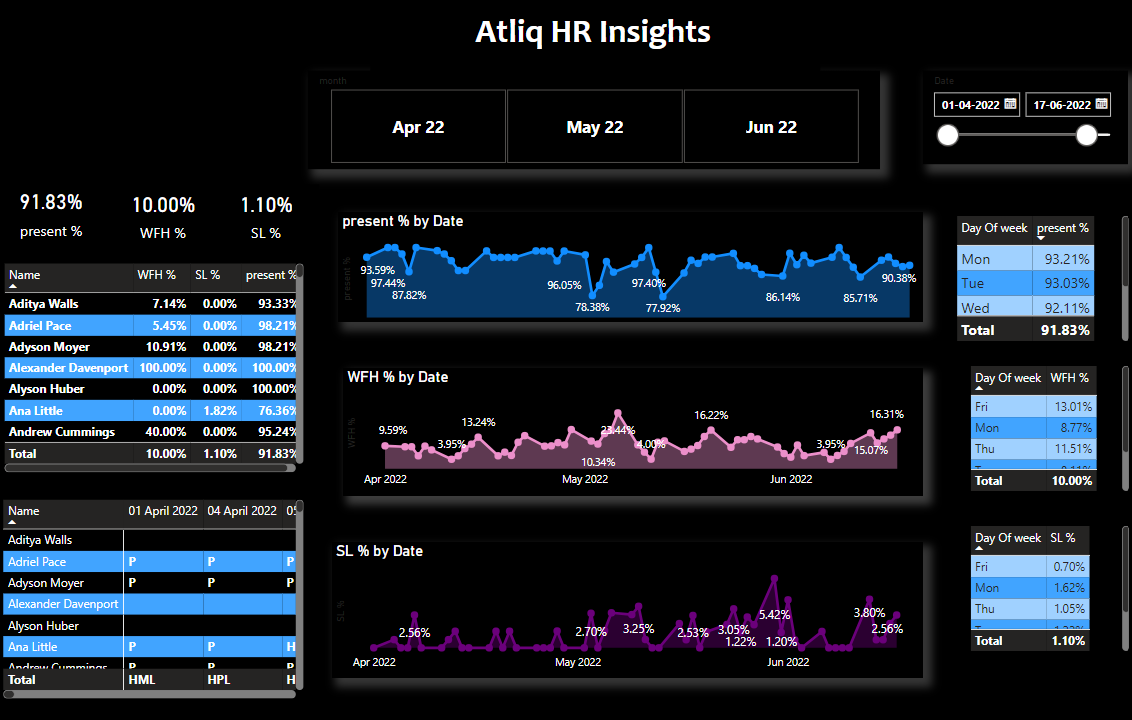

This screenshot's page, from the dashboard's own definition file:
{"tool":"powerbi","page":{"name":"Page 1","canvas":[1280,814],"ordinal":0},"visuals":[{"type":"card","fields":{"Values":["Measure.present %"]},"box":[9.7,204.5,98.1,71.9],"z":0},{"type":"slicer","fields":{"Values":["Final data.month"]},"box":[334.4,92.6,644,111.9],"z":1000},{"type":"card","fields":{"Values":["Measure.WFH %"]},"box":[129.9,210.1,110.6,66.3],"z":2000},{"type":"card","fields":{"Values":["Measure.SL %"]},"box":[240.5,210.1,120.2,66.3],"z":3000},{"type":"tableEx","fields":{"Values":["Final data.Name","Measure.WFH %","Measure.SL %","Measure.present %"]},"box":[0,294.4,348.3,244.6],"z":4000},{"type":"pivotTable","fields":{"Rows":["Final data.Name"],"Values":["Final data.Value"],"Columns":["Final data.Date"]},"box":[0,561.1,348.3,233.6],"z":5000},{"type":"stackedAreaChart","fields":{"Category":["Final data.Date"],"Y":["Measure.present %"]},"box":[381.4,222.5,659.2,142.3],"z":6000},{"type":"areaChart","fields":{"Category":["Final data.Date"],"Y":["Measure.WFH %"]},"box":[387,407.7,653.7,153.4],"z":7000},{"type":"stackedAreaChart","fields":{"Category":["Final data.Date"],"Y":["Measure.SL %"]},"box":[374.5,590.1,666.1,175.5],"z":8000},{"type":"tableEx","fields":{"Values":["Final data.Day Of week","Measure.present %"]},"box":[1073.8,240.5,205.9,150.6],"z":9000},{"type":"tableEx","fields":{"Values":["Final data.Day Of week","Measure.WFH %"]},"box":[1089,410.5,190.7,150.6],"z":10000},{"type":"tableEx","fields":{"Values":["Final data.Day Of week","Measure.SL %"]},"box":[1089,590.1,190.7,150.6],"z":11000},{"type":"textbox","box":[418.7,9.7,507.2,82.9],"z":12000},{"type":"slicer","fields":{"Values":["Final data.Date"]},"box":[1040.6,99.5,232.2,105],"z":13000}]}

Visuals, with their boxes in screenshot pixels (x1, y1, x2, y2), scaled from the page's 1280x814 canvas onto the 1132x720 screenshot:
card - Measure.present %: {"left": 9, "top": 181, "right": 95, "bottom": 244}
slicer - Final data.month: {"left": 296, "top": 82, "right": 865, "bottom": 181}
card - Measure.WFH %: {"left": 115, "top": 186, "right": 213, "bottom": 244}
card - Measure.SL %: {"left": 213, "top": 186, "right": 319, "bottom": 244}
tableEx - Final data.Name x Measure.WFH %: {"left": 0, "top": 260, "right": 308, "bottom": 477}
pivotTable - Final data.Name x Final data.Value: {"left": 0, "top": 496, "right": 308, "bottom": 703}
stackedAreaChart - Final data.Date x Measure.present %: {"left": 337, "top": 197, "right": 920, "bottom": 323}
areaChart - Final data.Date x Measure.WFH %: {"left": 342, "top": 361, "right": 920, "bottom": 496}
stackedAreaChart - Final data.Date x Measure.SL %: {"left": 331, "top": 522, "right": 920, "bottom": 677}
tableEx - Final data.Day Of week x Measure.present %: {"left": 950, "top": 213, "right": 1131, "bottom": 346}
tableEx - Final data.Day Of week x Measure.WFH %: {"left": 963, "top": 363, "right": 1131, "bottom": 496}
tableEx - Final data.Day Of week x Measure.SL %: {"left": 963, "top": 522, "right": 1131, "bottom": 655}
textbox: {"left": 370, "top": 9, "right": 819, "bottom": 82}
slicer - Final data.Date: {"left": 920, "top": 88, "right": 1126, "bottom": 181}
